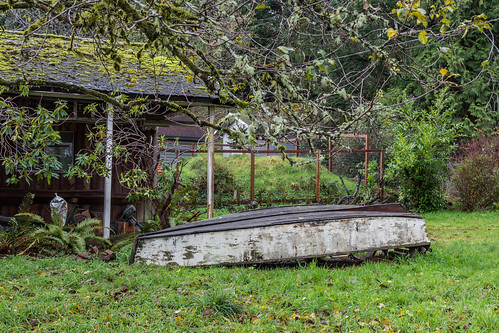boat: (111, 194, 446, 280)
building: (1, 40, 209, 199)
grass: (1, 213, 499, 333)
vegetation: (98, 1, 493, 197)
